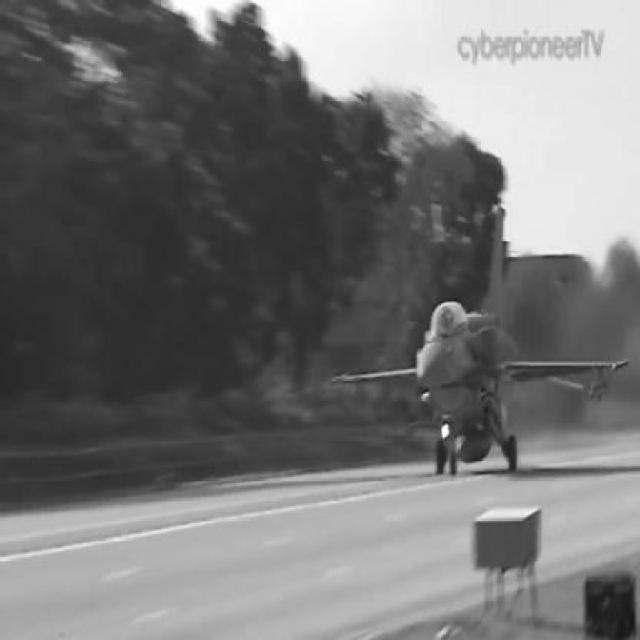Airplane: (327, 208, 629, 477)
